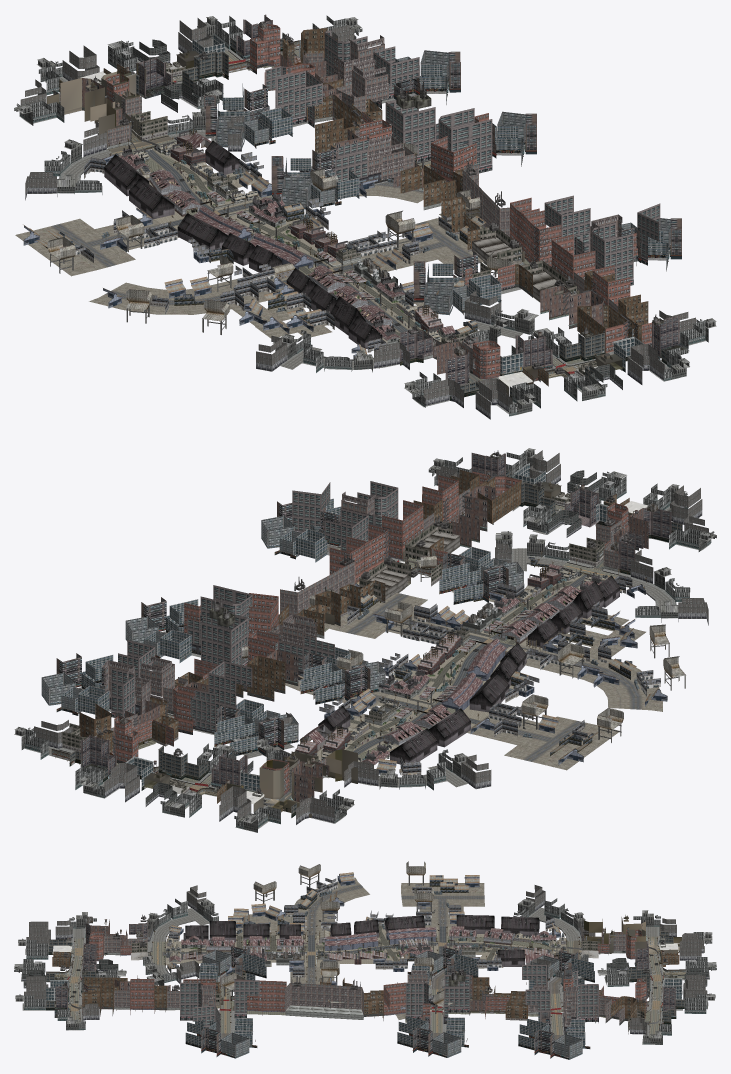
File: city.glb
The picture shows the model from 3 angles, top to bottom: view 1: azimuth 30°, elevation 25°; view 2: azimuth 150°, elevation 25°; view 3: azimuth 270°, elevation 25°; orthographic projection. The views are drawn at different scales.
Parts seen in each view (by area): view 1: backdrop_grp_004_mdl_003_sub_000_material_099_0_35, backdrop_grp_006_mdl_002_sub_000_material_098_0_45, backdrop_grp_005_mdl_002_sub_000_material_098_0_40, backdrop_grp_003_mdl_003_sub_000_material_099_0_28, backdrop_grp_004_mdl_001_sub_000_material_099_0_31, backdrop_grp_000_mdl_004_sub_000_material_097_0_7, backdrop_grp_003_mdl_001_sub_000_material_099_0_24, backdrop_grp_002_mdl_002_sub_000_material_098_0_21, backdrop_grp_000_mdl_006_sub_000_material_097_0_11, backdrop_grp_001_mdl_002_sub_000_material_098_0_16, backdrop_grp_000_mdl_005_sub_000_material_097_0_9, backdrop_grp_007_mdl_002_sub_000_material_100_0_50 (+49 smaller); view 2: backdrop_grp_004_mdl_003_sub_000_material_099_0_35, backdrop_grp_003_mdl_003_sub_000_material_099_0_28, backdrop_grp_005_mdl_002_sub_000_material_098_0_40, backdrop_grp_006_mdl_002_sub_000_material_098_0_45, backdrop_grp_004_mdl_001_sub_000_material_099_0_31, backdrop_grp_002_mdl_002_sub_000_material_098_0_21, backdrop_grp_000_mdl_004_sub_000_material_097_0_7, backdrop_grp_000_mdl_006_sub_000_material_097_0_11, backdrop_grp_000_mdl_001_sub_000_material_097_0_1, backdrop_grp_001_mdl_002_sub_000_material_098_0_16, backdrop_grp_000_mdl_005_sub_000_material_097_0_9, backdrop_grp_000_mdl_003_sub_000_material_097_0_5 (+45 smaller); view 3: backdrop_grp_004_mdl_003_sub_000_material_099_0_35, backdrop_grp_005_mdl_002_sub_000_material_098_0_40, backdrop_grp_003_mdl_003_sub_000_material_099_0_28, backdrop_grp_006_mdl_002_sub_000_material_098_0_45, backdrop_grp_000_mdl_001_sub_000_material_097_0_1, backdrop_grp_000_mdl_003_sub_000_material_097_0_5, backdrop_grp_002_mdl_002_sub_000_material_098_0_21, backdrop_grp_000_mdl_002_sub_000_material_097_0_3, backdrop_grp_001_mdl_002_sub_000_material_098_0_16, backdrop_grp_000_mdl_006_sub_000_material_097_0_11, backdrop_grp_000_mdl_005_sub_000_material_097_0_9, backdrop_grp_003_mdl_001_sub_000_material_099_0_24 (+39 smaller).
Boxes of the visible parts, left/top/right/bottom form: backdrop_grp_004_mdl_003_sub_000_material_099_0_35: left=89, top=255, right=331, bottom=338; backdrop_grp_006_mdl_002_sub_000_material_098_0_45: left=404, top=327, right=689, bottom=419; backdrop_grp_005_mdl_002_sub_000_material_098_0_40: left=14, top=16, right=242, bottom=125; backdrop_grp_003_mdl_003_sub_000_material_099_0_28: left=15, top=207, right=233, bottom=276; backdrop_grp_004_mdl_001_sub_000_material_099_0_31: left=348, top=189, right=511, bottom=287; backdrop_grp_000_mdl_004_sub_000_material_097_0_7: left=204, top=83, right=292, bottom=148; backdrop_grp_003_mdl_001_sub_000_material_099_0_24: left=233, top=136, right=430, bottom=229; backdrop_grp_002_mdl_002_sub_000_material_098_0_21: left=256, top=329, right=485, bottom=372; backdrop_grp_000_mdl_006_sub_000_material_097_0_11: left=413, top=251, right=501, bottom=315; backdrop_grp_001_mdl_002_sub_000_material_098_0_16: left=25, top=119, right=181, bottom=200; backdrop_grp_000_mdl_005_sub_000_material_097_0_9: left=271, top=145, right=359, bottom=209; backdrop_grp_007_mdl_002_sub_000_material_100_0_50: left=47, top=63, right=172, bottom=152; backdrop_grp_004_mdl_003_sub_000_material_099_0_35: left=525, top=606, right=685, bottom=711; backdrop_grp_003_mdl_003_sub_000_material_099_0_28: left=467, top=671, right=623, bottom=770; backdrop_grp_005_mdl_002_sub_000_material_098_0_40: left=75, top=743, right=354, bottom=832; backdrop_grp_006_mdl_002_sub_000_material_098_0_45: left=506, top=448, right=716, bottom=551; backdrop_grp_004_mdl_001_sub_000_material_099_0_31: left=309, top=548, right=483, bottom=644; backdrop_grp_002_mdl_002_sub_000_material_098_0_21: left=526, top=545, right=708, bottom=625; backdrop_grp_000_mdl_004_sub_000_material_097_0_7: left=214, top=699, right=298, bottom=755; backdrop_grp_000_mdl_006_sub_000_material_097_0_11: left=439, top=546, right=523, bottom=604; backdrop_grp_000_mdl_001_sub_000_material_097_0_1: left=41, top=653, right=113, bottom=715; backdrop_grp_001_mdl_002_sub_000_material_098_0_16: left=283, top=749, right=491, bottom=790; backdrop_grp_000_mdl_005_sub_000_material_097_0_9: left=298, top=647, right=385, bottom=741; backdrop_grp_000_mdl_003_sub_000_material_097_0_5: left=125, top=597, right=203, bottom=662; backdrop_grp_004_mdl_003_sub_000_material_099_0_35: left=228, top=864, right=369, bottom=935; backdrop_grp_005_mdl_002_sub_000_material_098_0_40: left=597, top=910, right=716, bottom=1013; backdrop_grp_003_mdl_003_sub_000_material_099_0_28: left=365, top=861, right=484, bottom=929; backdrop_grp_006_mdl_002_sub_000_material_098_0_45: left=14, top=912, right=126, bottom=1010; backdrop_grp_000_mdl_001_sub_000_material_097_0_1: left=518, top=1011, right=590, bottom=1059; backdrop_grp_000_mdl_003_sub_000_material_097_0_5: left=397, top=1009, right=468, bottom=1057; backdrop_grp_002_mdl_002_sub_000_material_098_0_21: left=137, top=885, right=218, bottom=974; backdrop_grp_000_mdl_002_sub_000_material_097_0_3: left=185, top=1018, right=257, bottom=1058; backdrop_grp_001_mdl_002_sub_000_material_098_0_16: left=513, top=885, right=595, bottom=961; backdrop_grp_000_mdl_006_sub_000_material_097_0_11: left=197, top=943, right=266, bottom=988; backdrop_grp_000_mdl_005_sub_000_material_097_0_9: left=407, top=943, right=478, bottom=989; backdrop_grp_003_mdl_001_sub_000_material_099_0_24: left=373, top=952, right=501, bottom=1019.
Size of the model in its own units: 14.65 by 2.16 by 23.9.
Materials: 100 (99 with a texture image).
